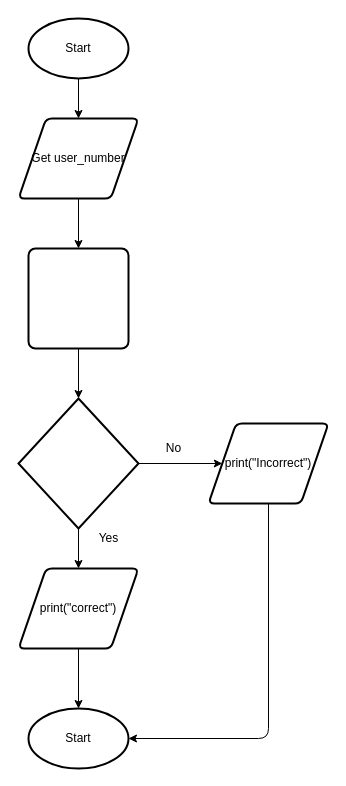
Some shapes in this 346 by 786 pixel diagram are drawn without their labels. The centre of each missing label's shape, as x and y in pixels:
"Get random number" belongs at (x=78, y=298).
"if user_number == random_number" belongs at (x=78, y=463).
